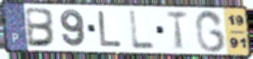9: (58, 8, 87, 49)
B: (24, 6, 58, 49)
G: (194, 9, 228, 54)
L: (128, 9, 158, 51), (96, 10, 124, 48)
T: (165, 9, 190, 51)
